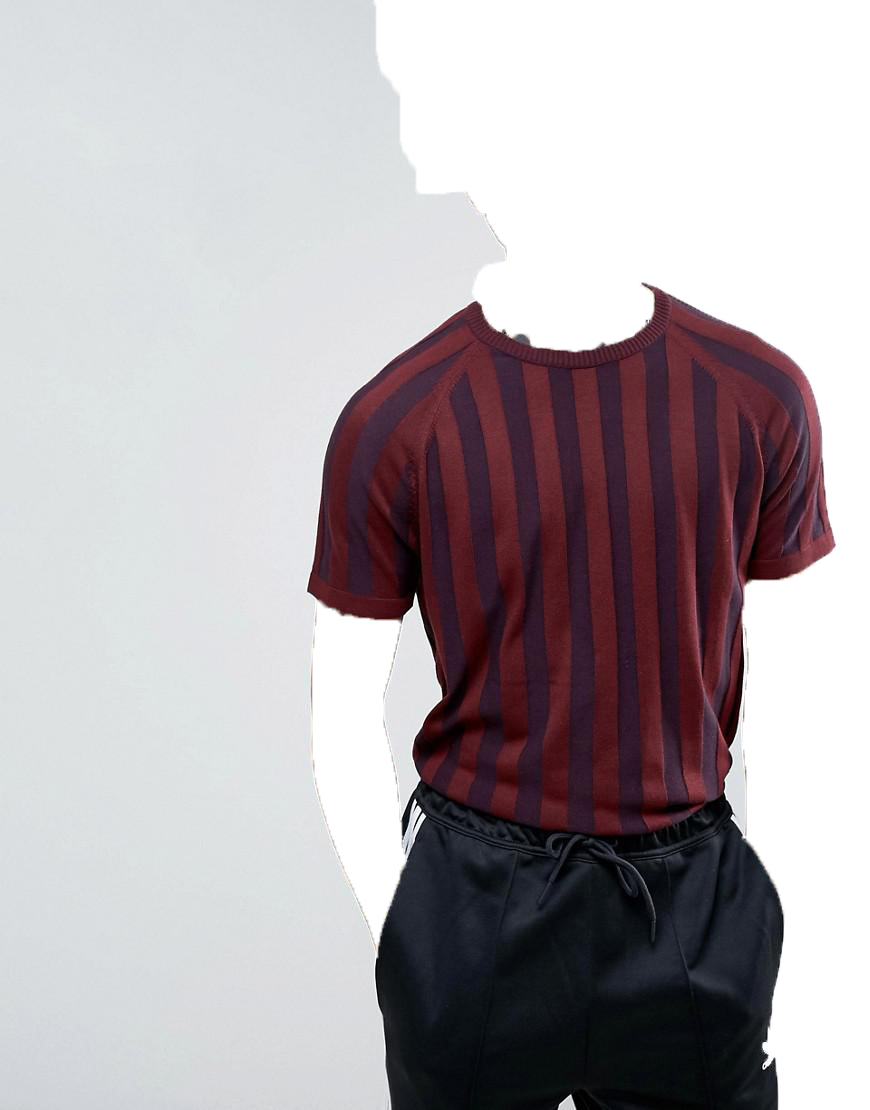teeshirt: (291, 276, 864, 837)
